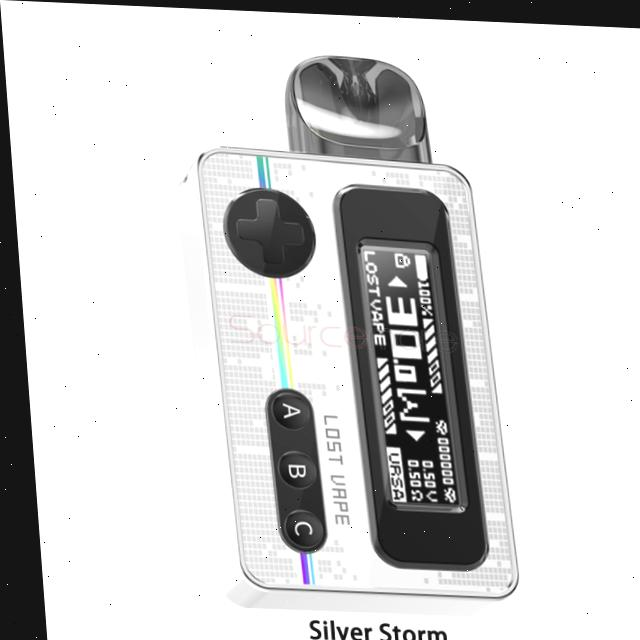vape: (164, 44, 515, 615)
